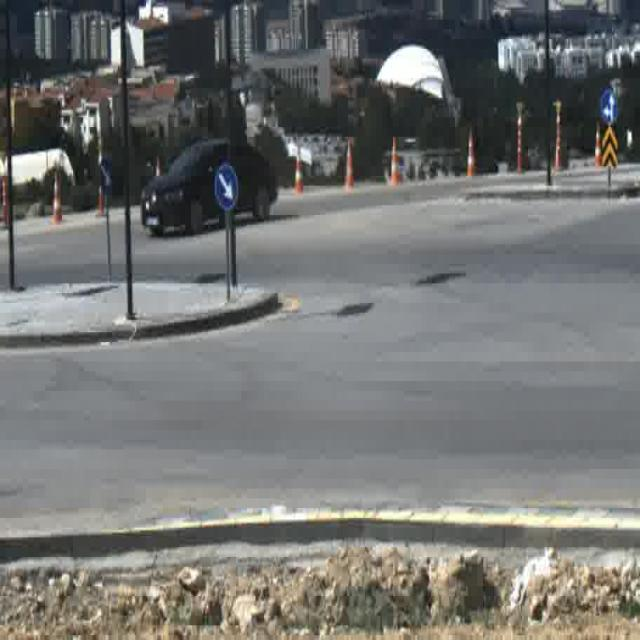Car: (142, 138, 276, 236)
